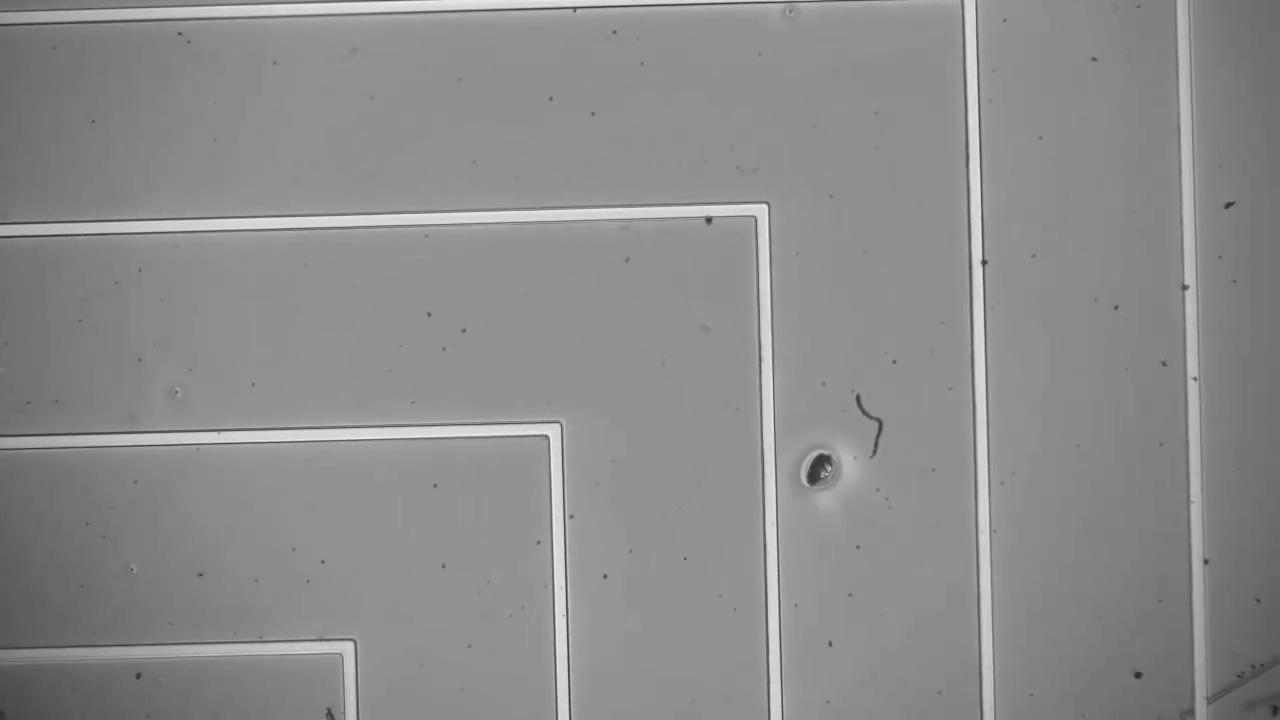scratch: (1189, 636, 1279, 719)
